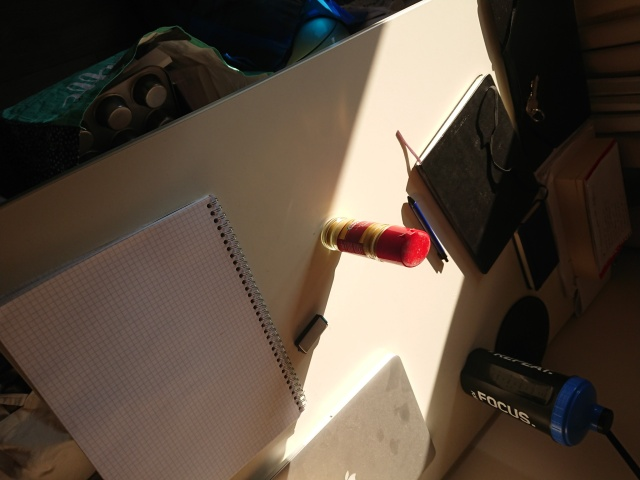Kotanyi Curry Spices Mix 70g: (318, 214, 432, 269)
